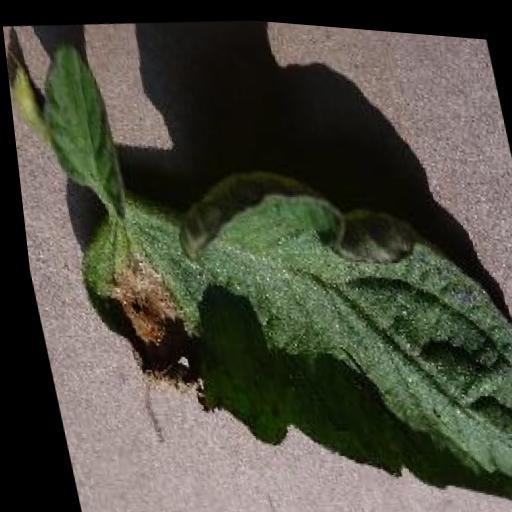Healthy: (34, 36, 130, 207)
Late Blight: (34, 125, 512, 512)
